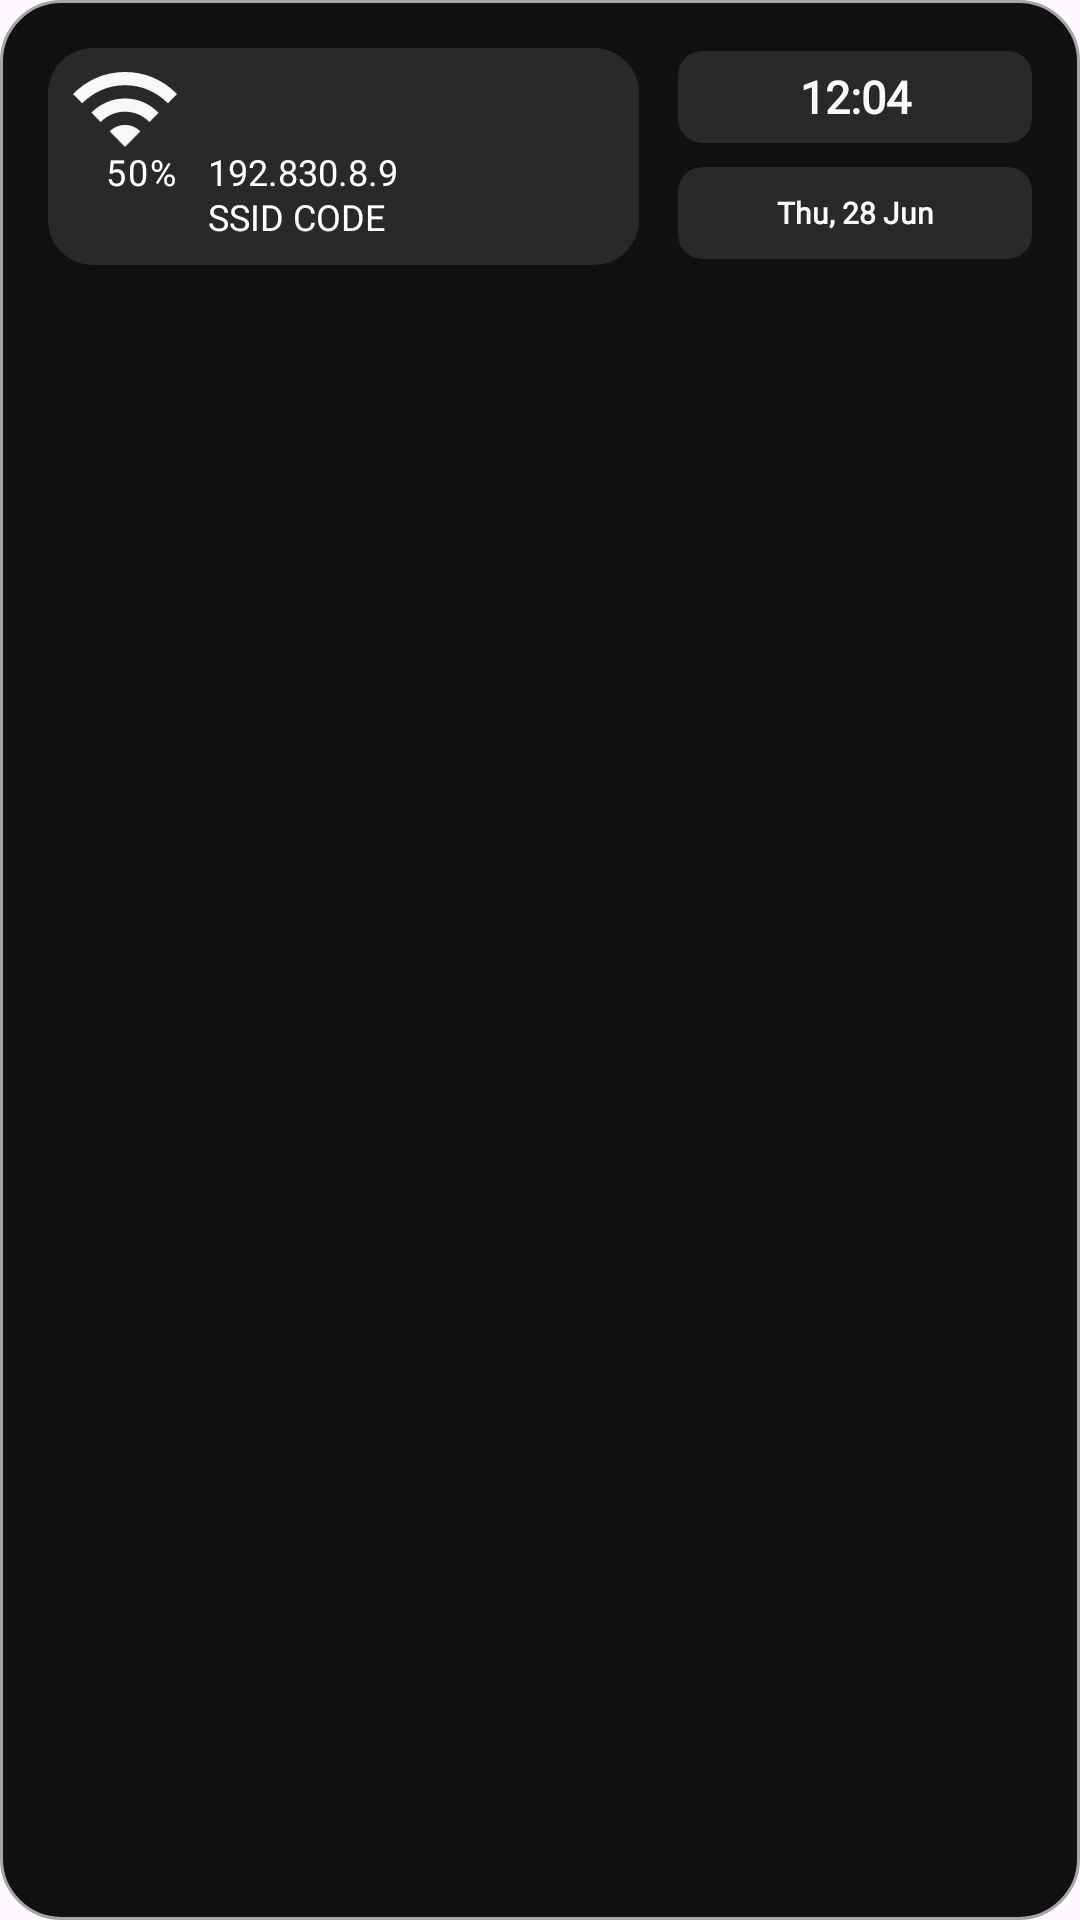

Locate icon controls on the screen. Image size 1080w x 1920h, boxes as (x1, y1, x2, y2).
signal: (73, 72, 177, 147)
